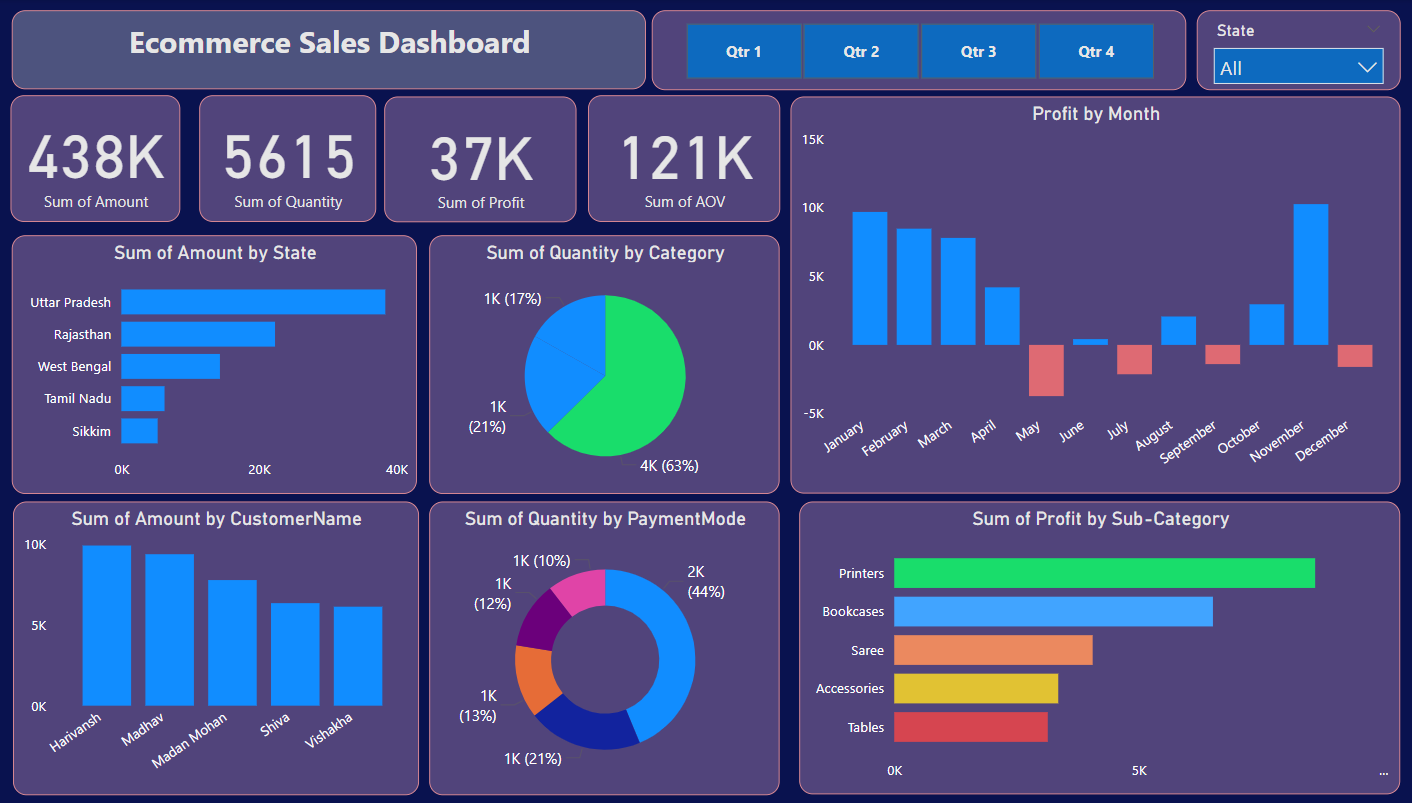

This screenshot's page, from the dashboard's own definition file:
{"tool":"powerbi","page":{"name":"Ecommerce Sales Dashboard","canvas":[1280,720],"ordinal":0},"visuals":[{"type":"textbox","box":[25.2,10.2,564.6,70.7],"z":0},{"type":"columnChart","title":"Profit by Month","fields":{"Y":["Sum(Details.Profit)"],"Category":["Orders.Order Date.Variation.Date Hierarchy.Month"]},"box":[719,86.4,542.9,353.7],"z":1000},{"type":"barChart","fields":{"Y":["Sum(Details.Profit)"],"Category":["Details.Sub-Category"]},"box":[726.7,447.8,535.6,261.1],"z":2000},{"type":"donutChart","fields":{"Category":["Details.PaymentMode"],"Y":["Sum(Details.Quantity)"]},"box":[398,447.6,312.2,261.2],"z":3000},{"type":"pieChart","fields":{"Category":["Details.Category"],"Y":["Sum(Details.Quantity)"]},"box":[397.8,210,312.2,230],"z":4000},{"type":"card","fields":{"Values":["Sum(Details.Amount)"]},"box":[25,86.2,151.2,112.5],"z":5000},{"type":"card","fields":{"Values":["Sum(Details.Quantity)"]},"box":[192.5,86.2,157.5,112.5],"z":6000},{"type":"card","fields":{"Values":["Sum(Details.Profit)"]},"box":[357.8,86.4,171.4,112.2],"z":7000},{"type":"card","fields":{"Values":["Sum(Details.AOV)"]},"box":[538.8,85.7,171.4,112.9],"z":8000},{"type":"barChart","fields":{"Y":["Sum(Details.Amount)"],"Category":["Orders.State"]},"box":[25.6,210,361.1,230],"z":9000},{"type":"columnChart","fields":{"Y":["Sum(Details.Amount)"],"Category":["Orders.CustomerName"]},"box":[26.5,447.6,361.2,261.2],"z":10000},{"type":"slicer","fields":{"Values":["Orders.Order Date.Variation.Date Hierarchy.Quarter"]},"box":[595.1,10.3,475.9,71],"z":11000},{"type":"slicer","fields":{"Values":["Orders.State"]},"box":[1081.3,10,181.3,70.8],"z":12000}]}

Visuals, with their boxes in screenshot pixels (x1, y1, x2, y2), scaled from the page's 1280x720 canvas onto the 1412x803 screenshot:
textbox: crop(28, 11, 651, 90)
"Profit by Month" columnChart: crop(793, 96, 1392, 491)
barChart - Sum(Details.Profit) x Details.Sub-Category: crop(802, 499, 1392, 791)
donutChart - Details.PaymentMode x Sum(Details.Quantity): crop(439, 499, 783, 791)
pieChart - Details.Category x Sum(Details.Quantity): crop(439, 234, 783, 491)
card - Sum(Details.Amount): crop(28, 96, 194, 222)
card - Sum(Details.Quantity): crop(212, 96, 386, 222)
card - Sum(Details.Profit): crop(395, 96, 584, 221)
card - Sum(Details.AOV): crop(594, 96, 783, 221)
barChart - Sum(Details.Amount) x Orders.State: crop(28, 234, 427, 491)
columnChart - Sum(Details.Amount) x Orders.CustomerName: crop(29, 499, 428, 791)
slicer - Orders.Order Date.Variation.Date Hierarchy.Quarter: crop(656, 11, 1181, 91)
slicer - Orders.State: crop(1193, 11, 1393, 90)
